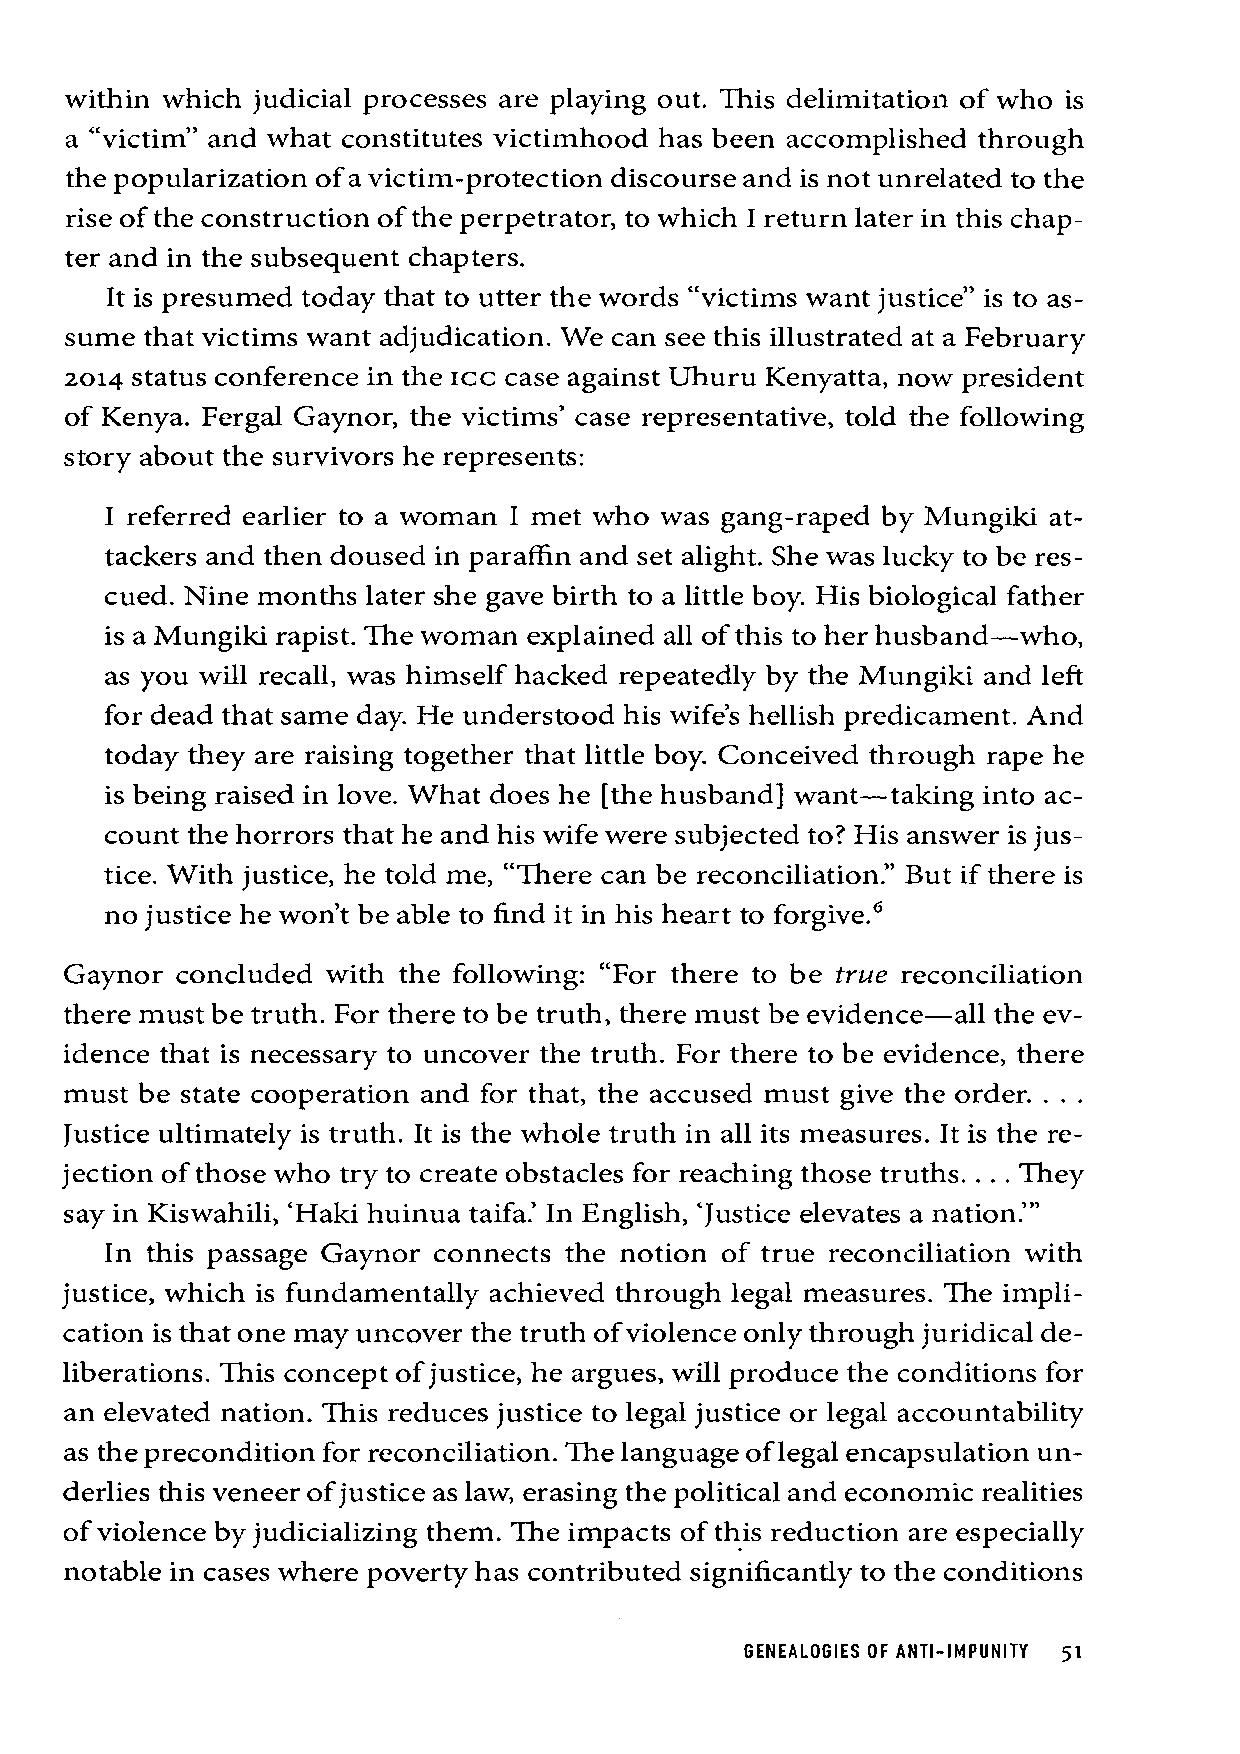content: (58, 83, 1091, 1593)
content_chapter: (735, 1640, 1031, 1665)
content_pagenumber: (1053, 1633, 1084, 1663)
